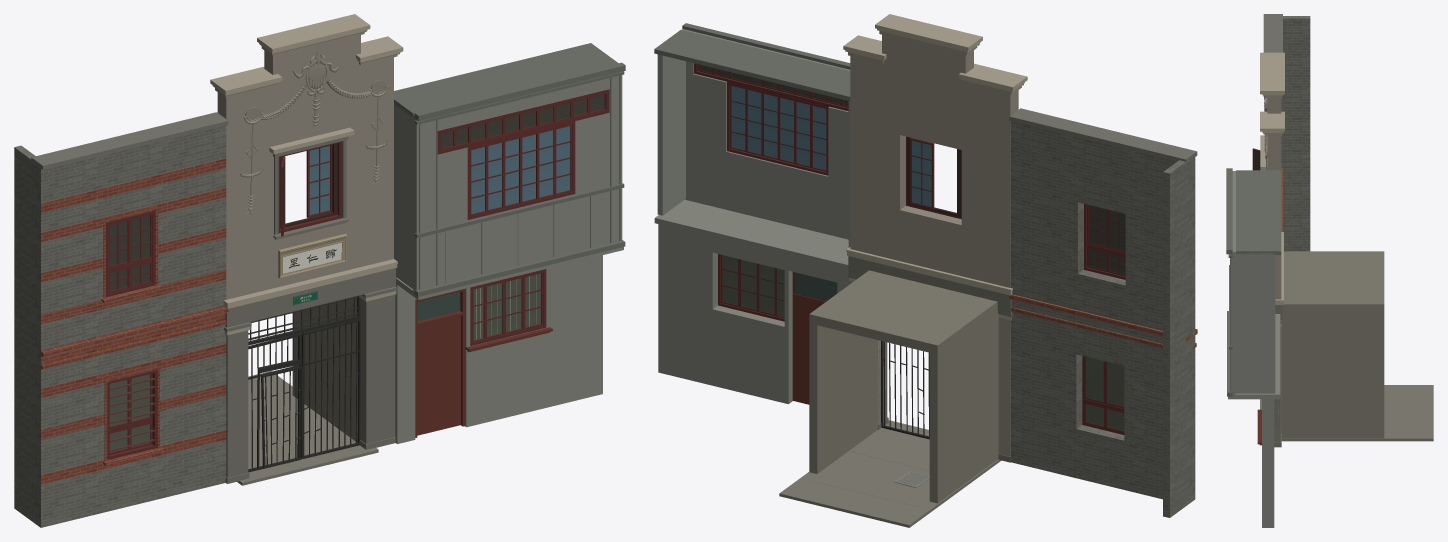
File: jingan-guiren-li-kangding-lane-gate-web.glb
The picture shows the model from 3 angles, left to right: view 1: azimuth 30°, elevation 25°; view 2: azimuth 150°, elevation 25°; view 3: azimuth 270°, elevation 25°; orthographic projection. The views are drawn at different scales.
Visible parts, largest first — view 1: 归仁里康定东路过街楼、镜心山花与相邻街窗; view 2: 归仁里康定东路过街楼、镜心山花与相邻街窗; view 3: 归仁里康定东路过街楼、镜心山花与相邻街窗.
Boxes of the visible parts, x1,y1,x2,y2 form: 归仁里康定东路过街楼、镜心山花与相邻街窗: (14, 14, 625, 527); 归仁里康定东路过街楼、镜心山花与相邻街窗: (654, 14, 1197, 527); 归仁里康定东路过街楼、镜心山花与相邻街窗: (1226, 14, 1433, 527).
Bounding box in the file's own units: 12.71 × 9.32 × 5.05.
31 materials, 6 textured.
